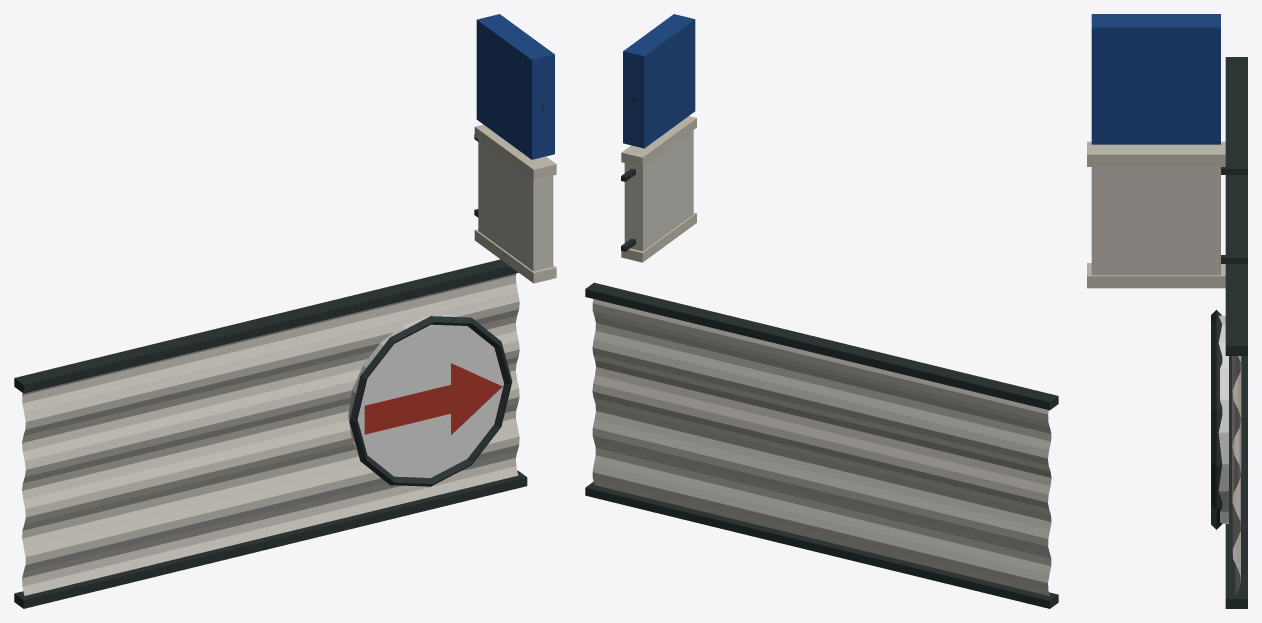
File: bang_giu_xe_thang_32.glb
3 renders of one model, left to right at view 1: azimuth 30°, elevation 25°; view 2: azimuth 150°, elevation 25°; view 3: azimuth 270°, elevation 25°, orthographic. The views are drawn at different scales.
Visible parts, largest first — view 1: bang_giu_xe_thang_32; view 2: bang_giu_xe_thang_32; view 3: bang_giu_xe_thang_32.
Boxes of the visible parts, x1,y1,x2,y2 form: bang_giu_xe_thang_32: [14, 14, 556, 608]; bang_giu_xe_thang_32: [585, 14, 1058, 608]; bang_giu_xe_thang_32: [1087, 14, 1247, 608].
Size of the model in its own units: 3.06 by 2.79 by 0.72.
